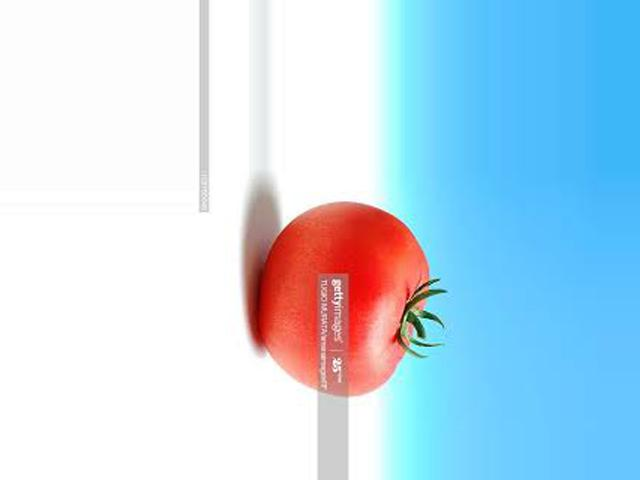tomato: (260, 203, 428, 398)
